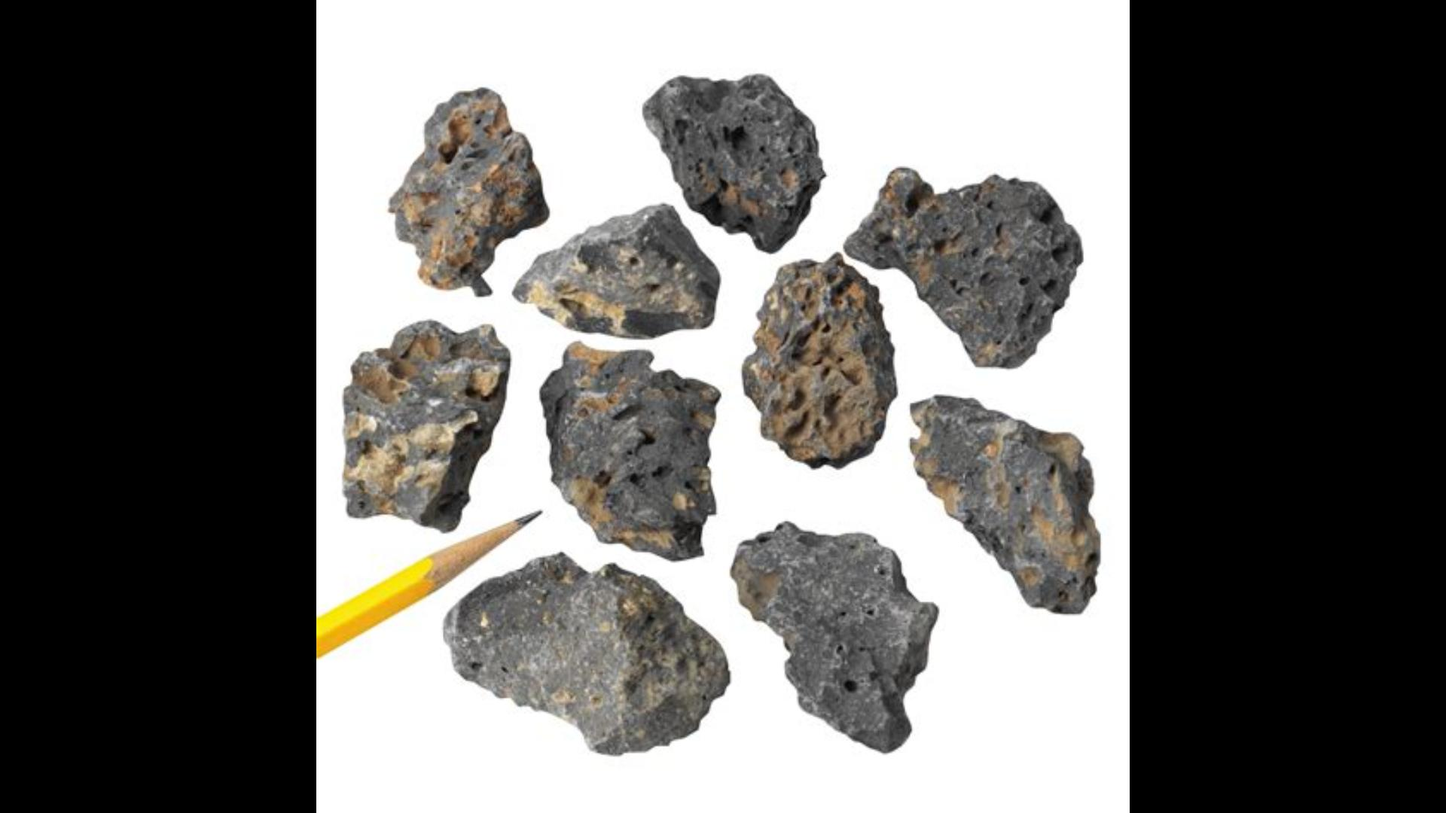rock: (445, 552, 728, 753), (732, 523, 936, 750), (848, 168, 1082, 365), (910, 396, 1099, 612), (543, 343, 716, 559), (344, 321, 507, 528), (742, 254, 895, 467), (390, 87, 546, 293), (646, 77, 823, 250), (515, 204, 718, 336)
